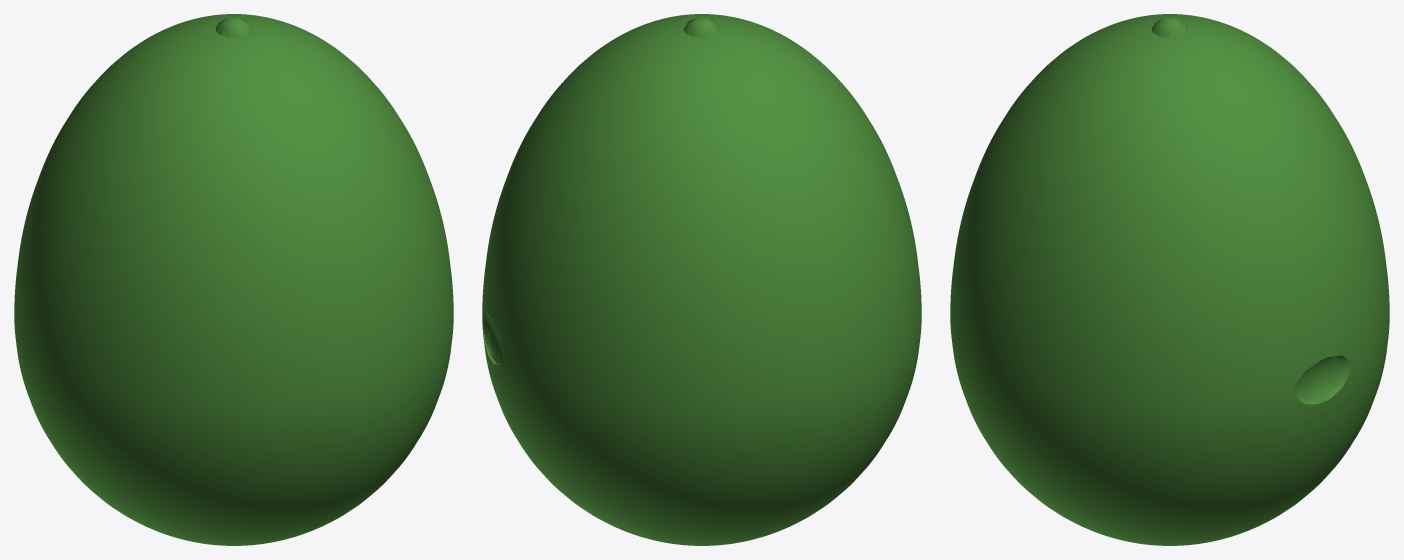
Rendered from chlamydomonas_cell.glb.
3 renders of one model, left to right at view 1: azimuth 30°, elevation 25°; view 2: azimuth 150°, elevation 25°; view 3: azimuth 270°, elevation 25°, orthographic.
Parts seen in each view (by area): view 1: cell; view 2: cell; view 3: cell.
Boxes of the visible parts, x1,y1,x2,y2 form: cell: [14, 14, 453, 545]; cell: [482, 14, 921, 545]; cell: [950, 14, 1389, 545].
Bounding box in the file's own units: 0.04 × 0.0509 × 0.04.
